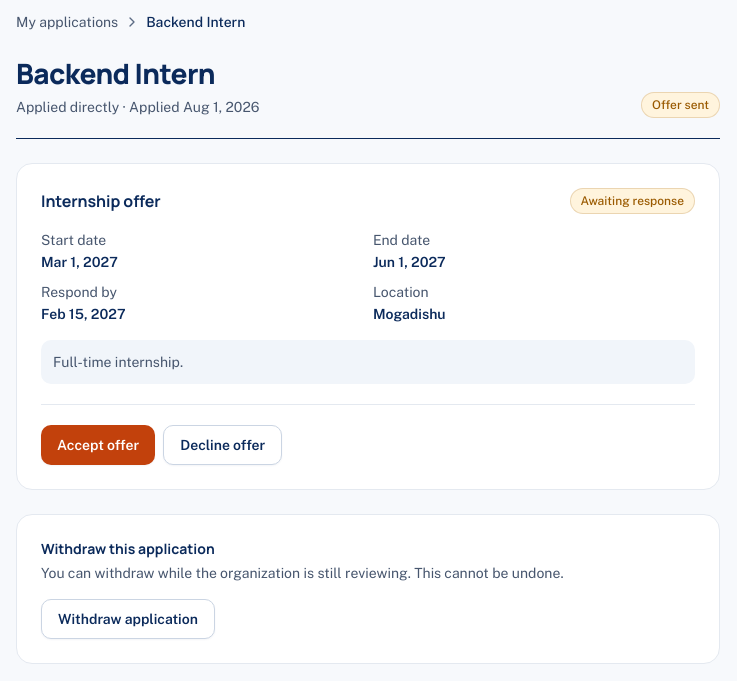
Test: CandidacyDetailPage › accepts the offer and confirms the placement was created
The image size is (737, 681).
Expected: the heading "Backend Intern" is shown, top-left (16, 54), bottom-right (215, 92)
Click the button "Accept offer".
click(98, 445)  # box top-left (41, 425), bottom-right (155, 465)
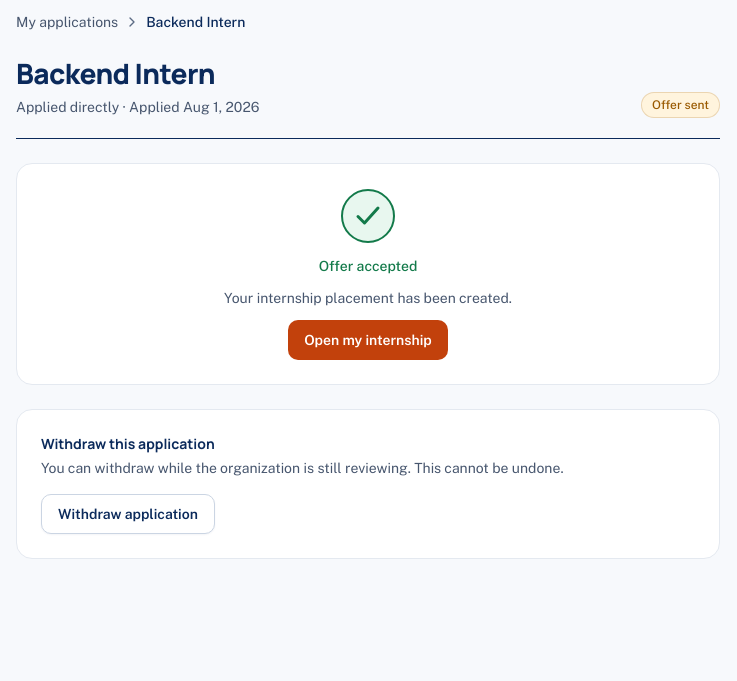
Result: the text "Offer accepted" is shown at top-left (319, 256), bottom-right (417, 276)
Result: the text "Your internship placement has been created." is shown at top-left (224, 288), bottom-right (512, 308)
